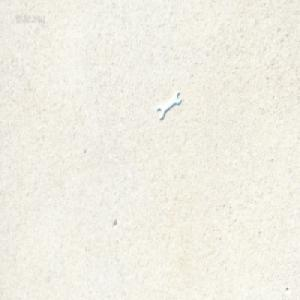Wrench: (156, 88, 181, 118)
